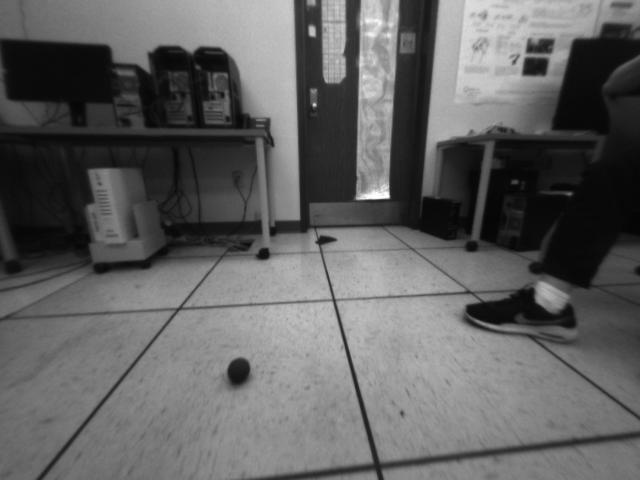dogtoy: (220, 347, 258, 393)
